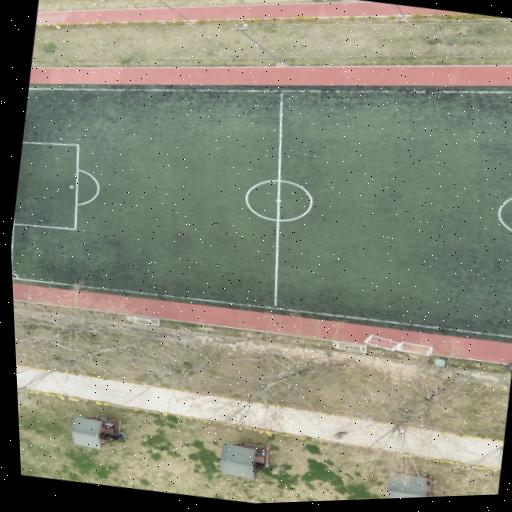person: (102, 432, 125, 439), (334, 431, 348, 438), (104, 422, 116, 427)
